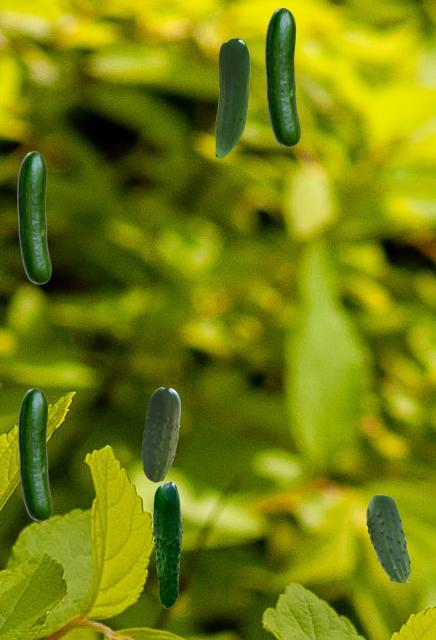cucumber: (265, 8, 299, 146), (18, 388, 51, 520), (17, 151, 50, 283), (215, 38, 249, 157), (152, 481, 182, 607), (366, 494, 409, 581), (141, 387, 179, 481)
